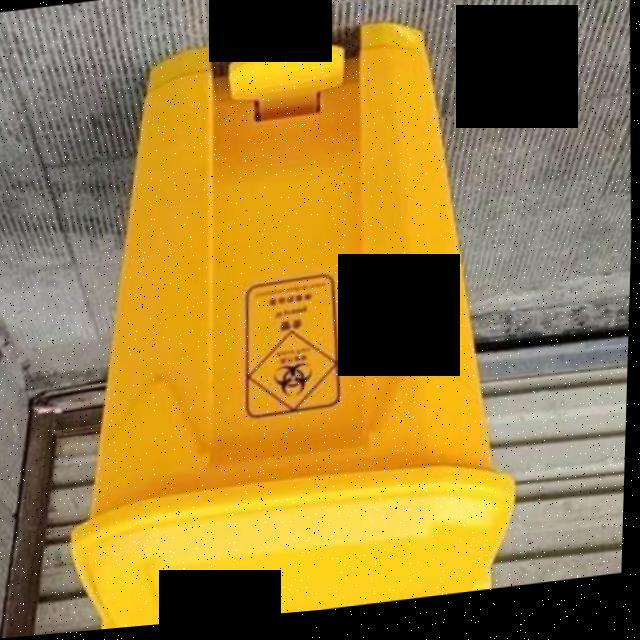bin: (43, 0, 562, 636)
